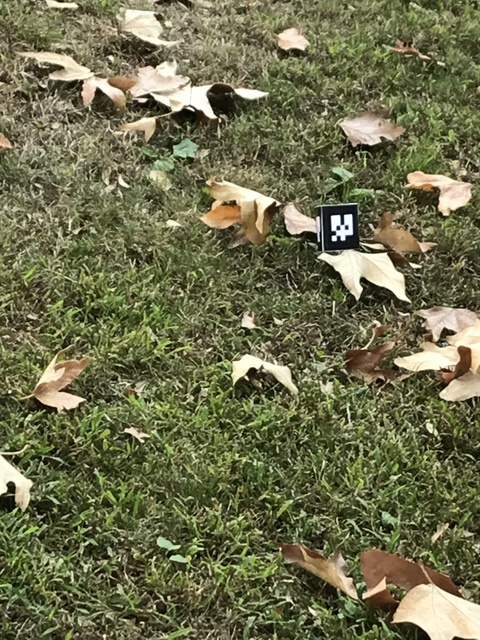ARTag: (312, 203, 360, 252)
